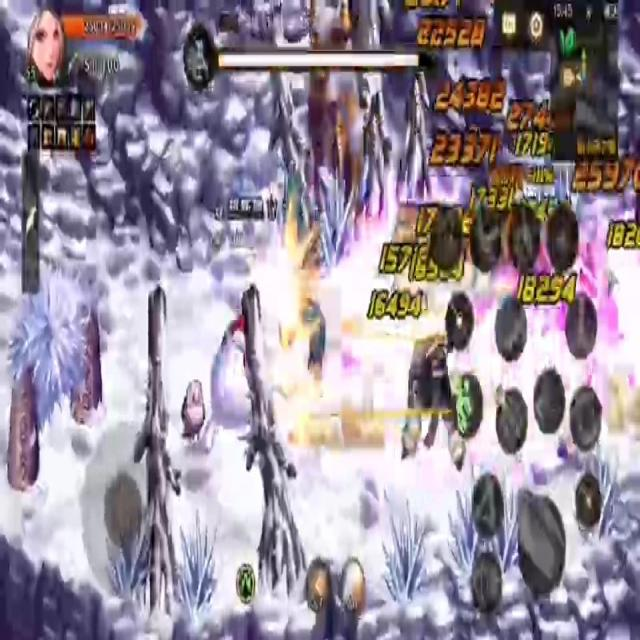player: (200, 297, 261, 458)
